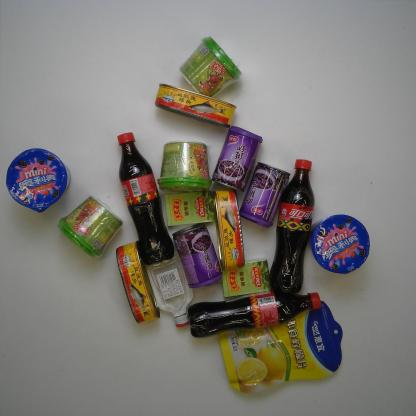Alcohol: (151, 257, 194, 329)
Candy: (218, 255, 273, 299), (164, 187, 218, 227)
Canned Food: (113, 239, 164, 328), (152, 82, 239, 129), (211, 122, 264, 195), (238, 160, 292, 230), (171, 221, 225, 290), (210, 188, 250, 273)
Dessert: (5, 147, 74, 215), (306, 213, 372, 277)
Dried Fruit: (217, 299, 344, 394)
Drink: (115, 131, 175, 266), (186, 289, 324, 340), (267, 157, 315, 294)
Instant Drink: (56, 194, 124, 260), (177, 34, 243, 99), (156, 139, 213, 194)
